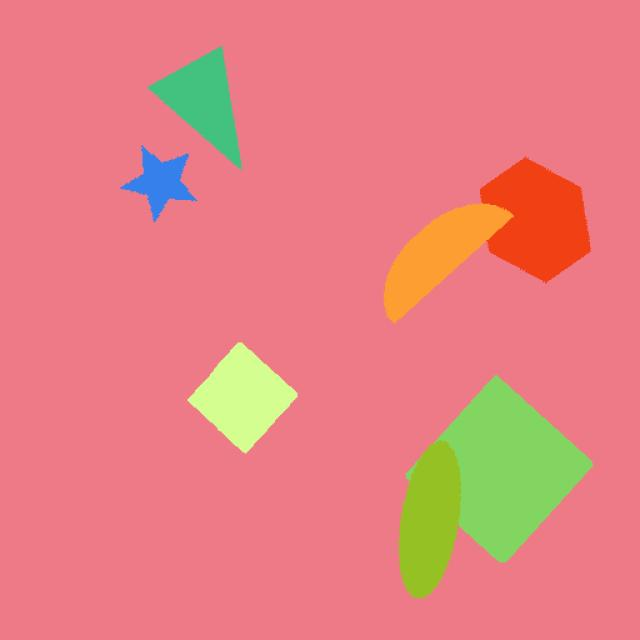Hexagon: (472, 156, 614, 298)
Oval: (388, 433, 479, 600)
Semicircle: (365, 186, 514, 333)
Star: (114, 137, 205, 230)
Triangle: (140, 36, 268, 178)
square: (407, 372, 605, 567), (176, 335, 320, 476)
